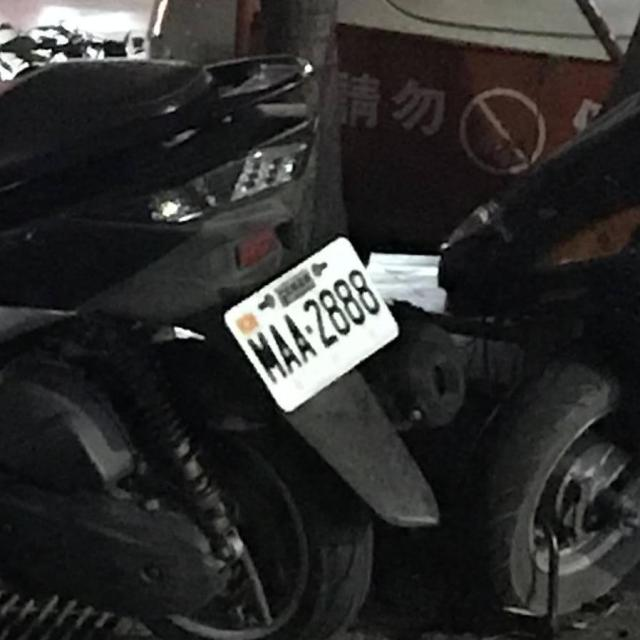W: (209, 217, 416, 424)
